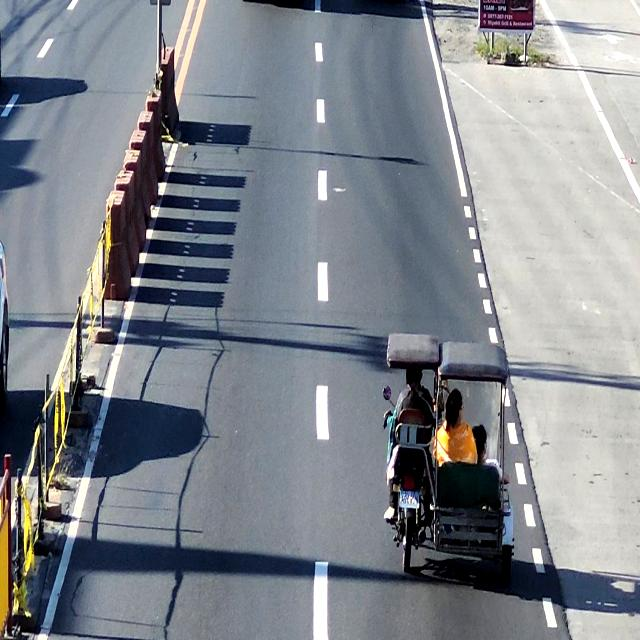License-Plate: (396, 490, 422, 510)
Tricycle: (379, 335, 519, 575)
